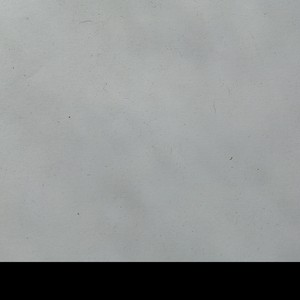base: (1, 1, 299, 262)
